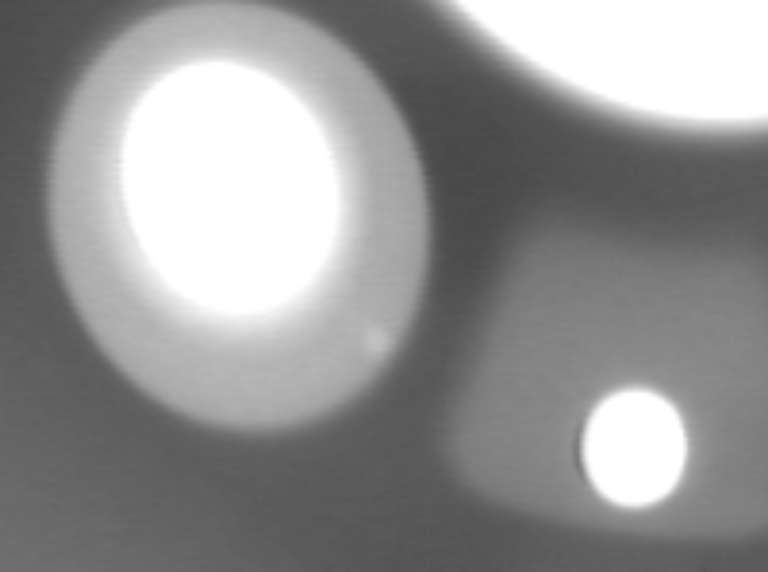defect: (357, 331, 396, 376)
